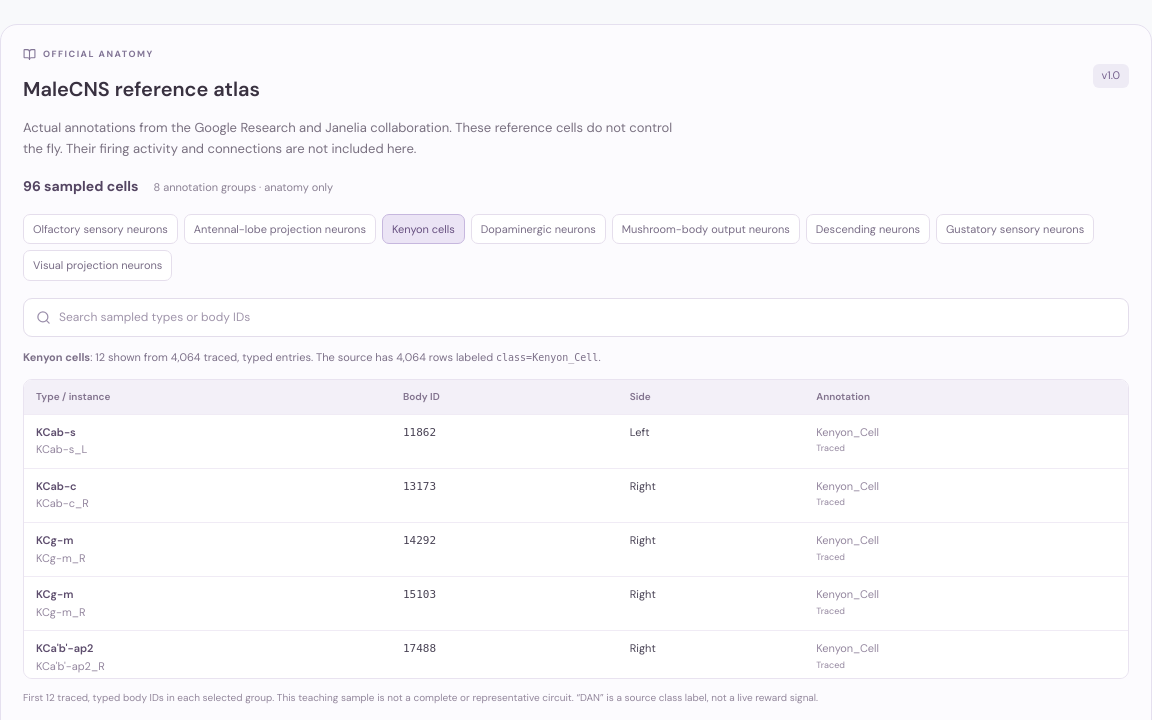
Test: MaleCNS reference atlas › loads the actual sample, separates anatomy from activity, and browses source groups
The width and height of the screenshot is (1152, 720).
Click the button "Descending neurons" at (868, 229), box [806,214,930,244]
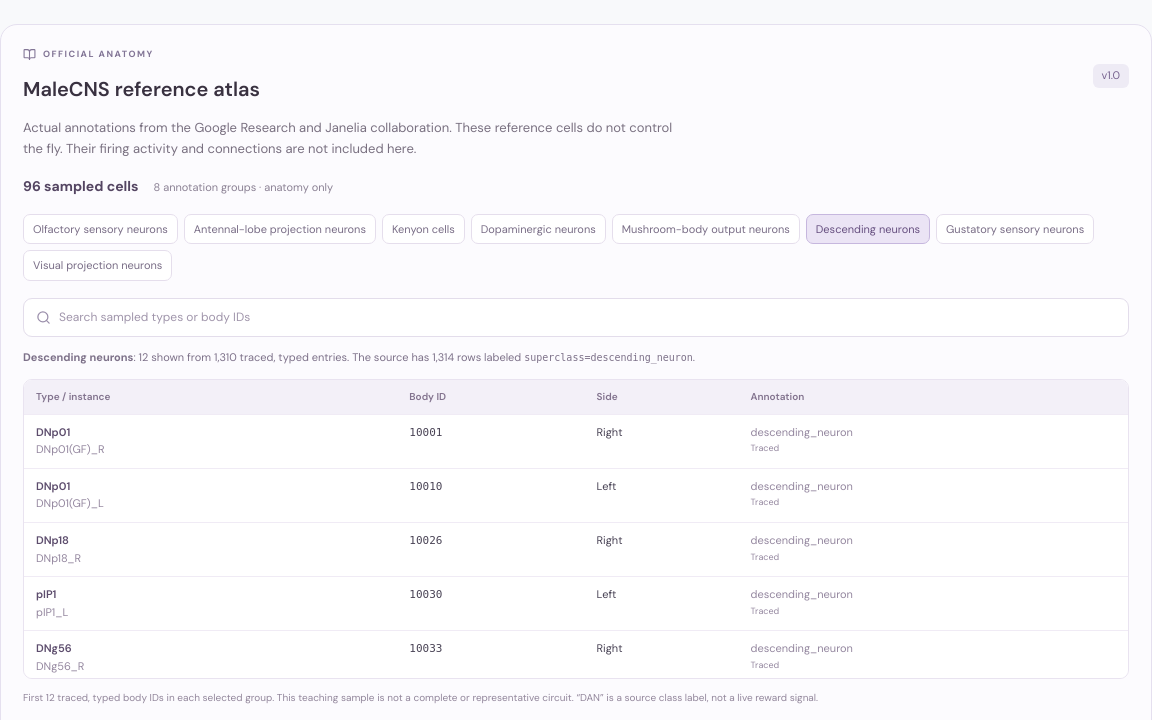
Expected: the table shows "DNp01(GF)_R", [36,442,104,456]
Expected: the table shows "10001", [409,426,442,439]
Expected: the text "1,314 rows labeled" is shown, [23,350,695,364]
